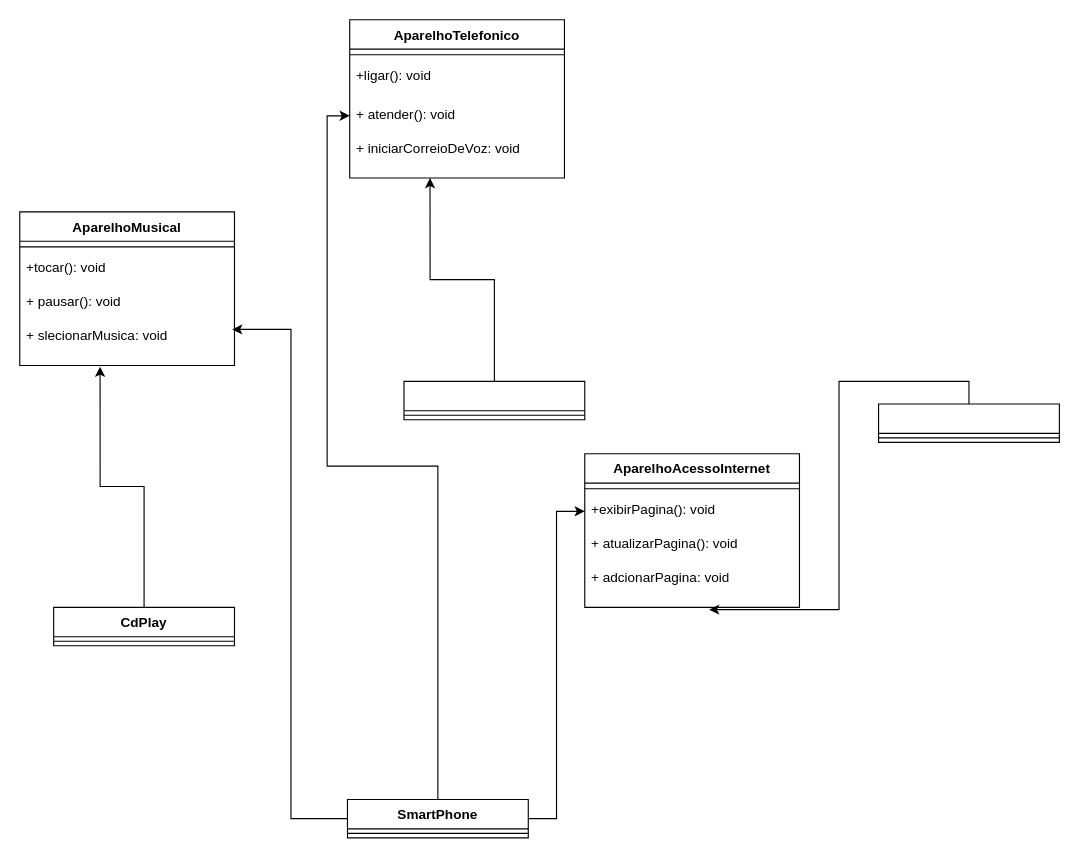
Some shapes in this 1079 by 858 pixel diagram are drawn without their labels. The shapes that lost their labels are listed below. From the top down, each one's centre as x and y in pixels, then its label:
the point at 494,400: Telefone
the point at 968,422: Pam
